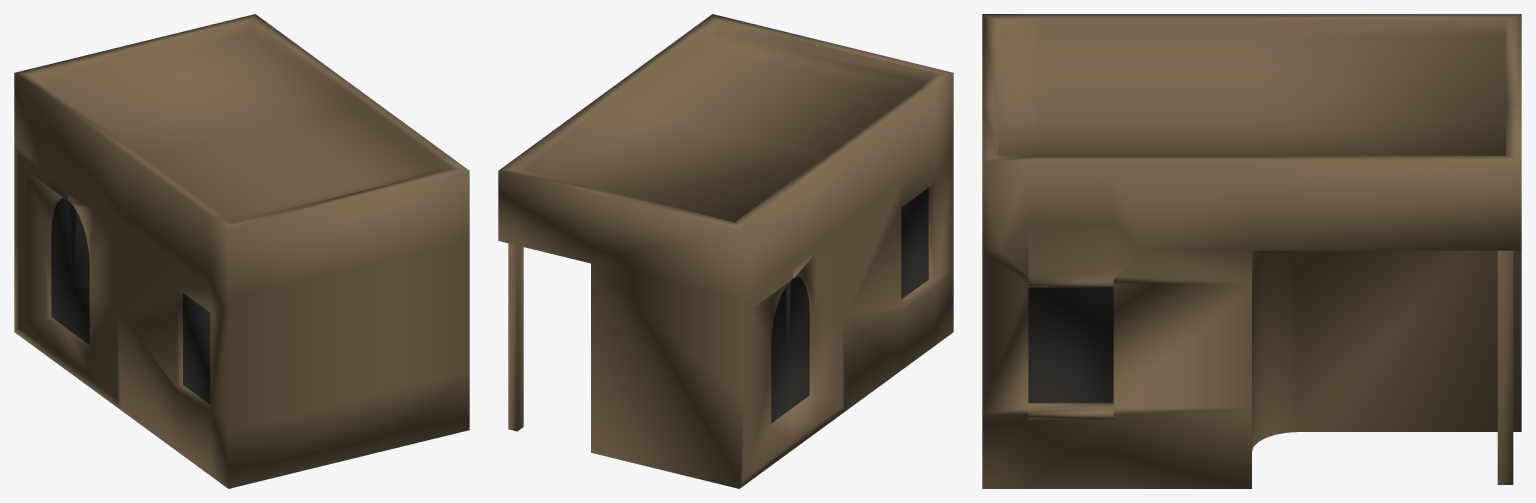
The model's file is House.01.glb.
3 renders of one model, left to right at view 1: azimuth 30°, elevation 25°; view 2: azimuth 150°, elevation 25°; view 3: azimuth 270°, elevation 25°, orthographic. The views are drawn at different scales.
Visible parts, largest first — view 1: House.01; view 2: House.01; view 3: House.01.
Boxes of the visible parts, x1,y1,x2,y2 form: House.01: (14,14,469,488); House.01: (498,14,953,488); House.01: (982,14,1521,488).
Bounding box in the file's own units: 13.47 × 13.37 × 20.
